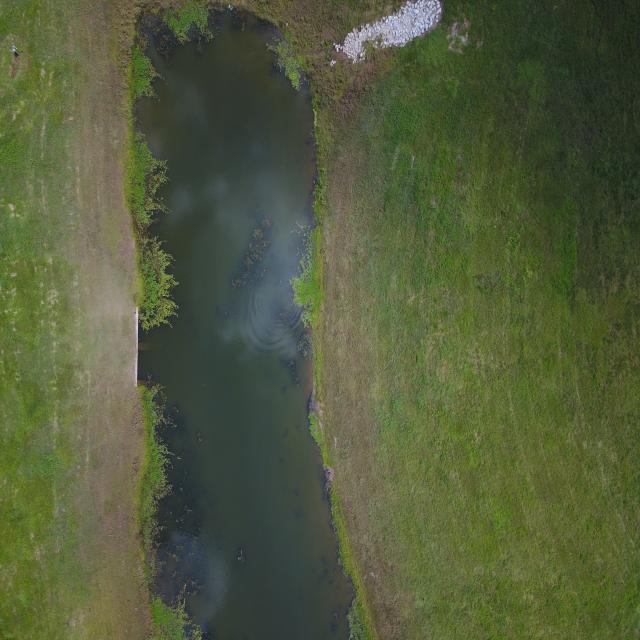fire: (137, 15, 352, 639)
